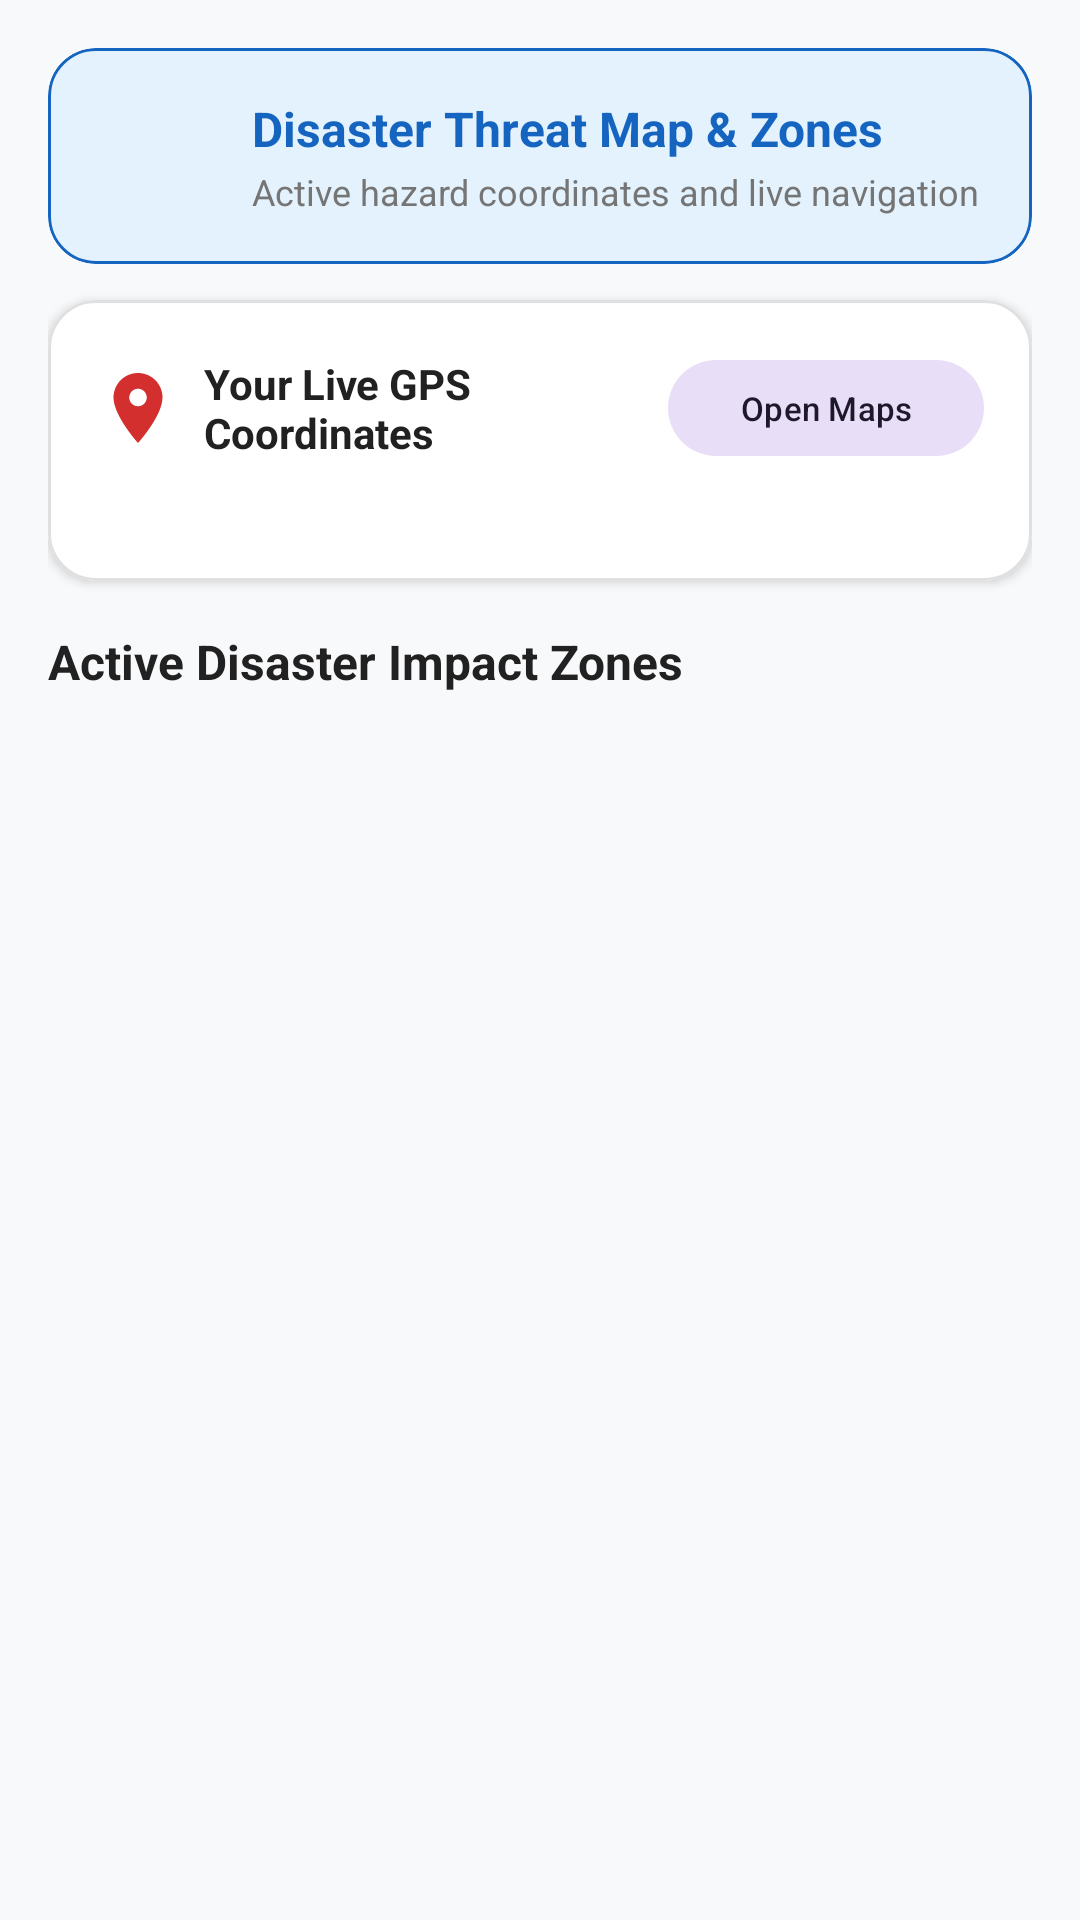

Named icons in this screenshot (1080×1920) and their centers, (x=x, y=y):
location: (x=138, y=408)
